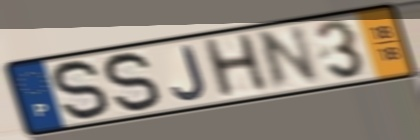3: (313, 18, 370, 83)
H: (198, 30, 273, 101)
J: (169, 43, 209, 102)
N: (255, 23, 323, 94)
S: (49, 57, 112, 124), (101, 49, 164, 116)
